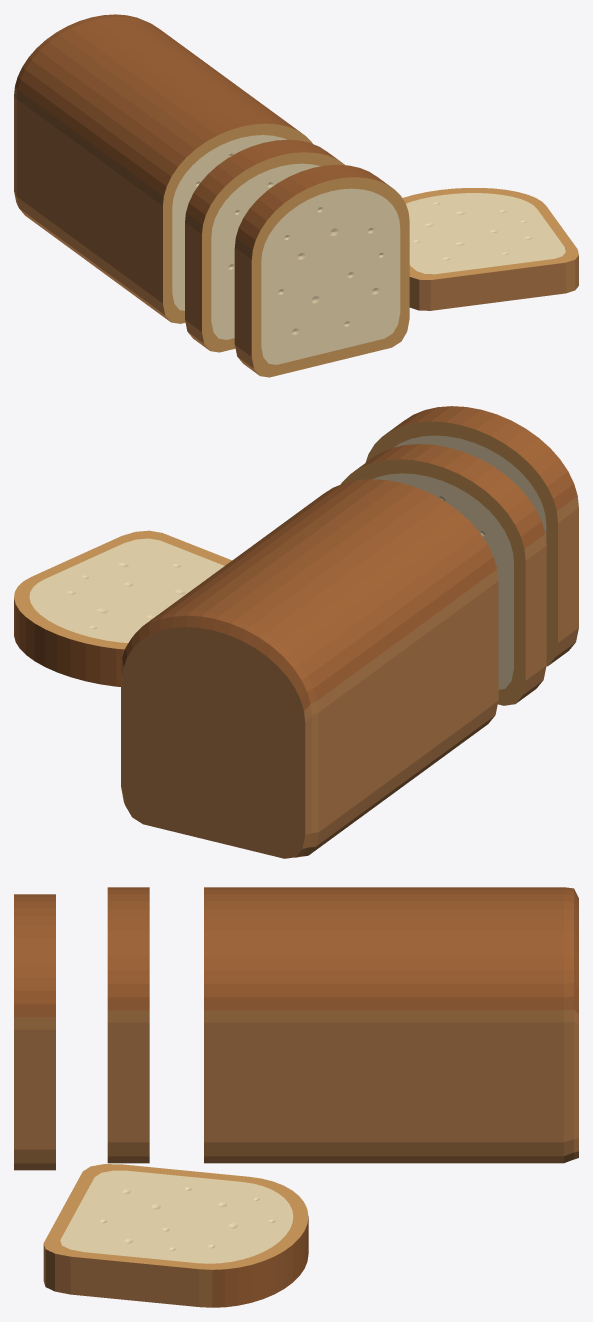
3 renders of one model, top to bottom at view 1: azimuth 30°, elevation 25°; view 2: azimuth 150°, elevation 25°; view 3: azimuth 270°, elevation 25°, orthographic. The views are drawn at different scales.
Visible parts, largest first — view 1: RemainingLoaf_TrueCutAndHeel, Slice02_Upright_TrueThickness, Slice03_Flat_TrueThickness, Slice01_Upright_TrueThickness; view 2: RemainingLoaf_TrueCutAndHeel, Slice03_Flat_TrueThickness, Slice01_Upright_TrueThickness, Slice02_Upright_TrueThickness; view 3: RemainingLoaf_TrueCutAndHeel, Slice03_Flat_TrueThickness, Slice01_Upright_TrueThickness, Slice02_Upright_TrueThickness.
Boxes of the visible parts, x1,y1,x2,y2 form: RemainingLoaf_TrueCutAndHeel: (14, 14, 312, 323); Slice02_Upright_TrueThickness: (234, 164, 409, 377); Slice03_Flat_TrueThickness: (402, 188, 578, 310); Slice01_Upright_TrueThickness: (185, 139, 344, 352); RemainingLoaf_TrueCutAndHeel: (121, 479, 498, 858); Slice03_Flat_TrueThickness: (14, 530, 231, 686); Slice01_Upright_TrueThickness: (341, 444, 546, 705); Slice02_Upright_TrueThickness: (365, 406, 578, 666); RemainingLoaf_TrueCutAndHeel: (204, 887, 578, 1163); Slice03_Flat_TrueThickness: (43, 1164, 308, 1307); Slice01_Upright_TrueThickness: (107, 887, 149, 1163); Slice02_Upright_TrueThickness: (14, 894, 55, 1170).
Bounding box in the file's own units: 0.3248 × 0.148 × 0.3375.
